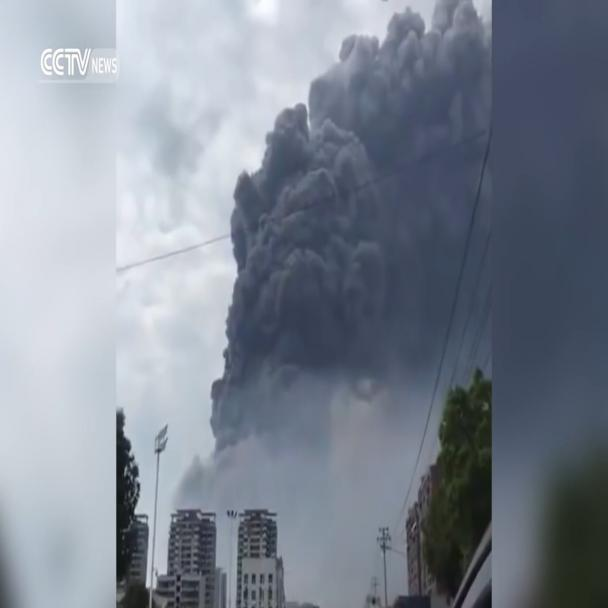smoke: (147, 0, 489, 607)
